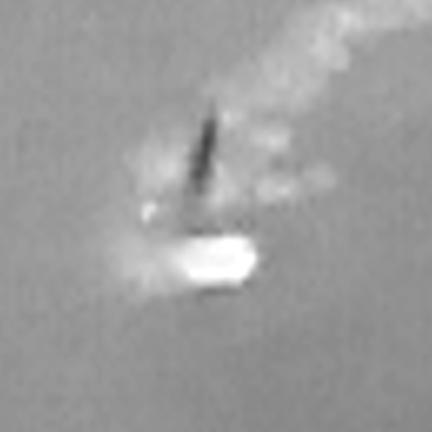flukeprints: (175, 235, 257, 287)
